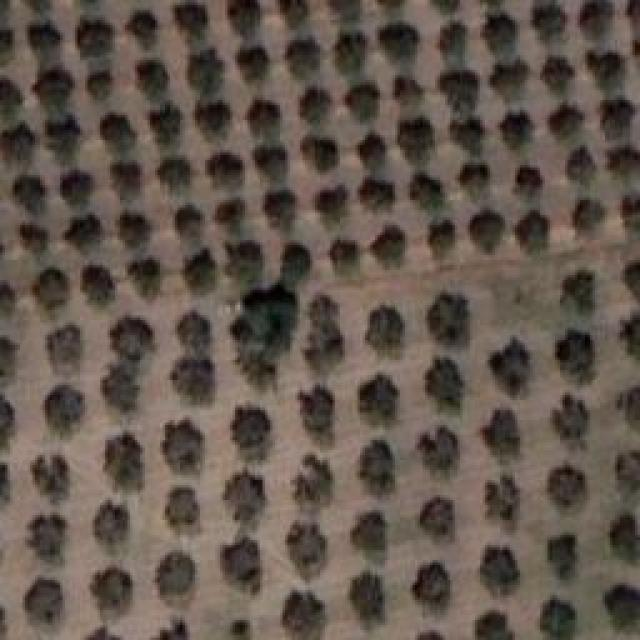Tree: (227, 287, 297, 382), (295, 300, 352, 368), (360, 300, 410, 358), (425, 290, 473, 347), (275, 243, 325, 297), (357, 437, 404, 494), (480, 478, 531, 530), (38, 385, 88, 435), (218, 473, 267, 524), (155, 550, 202, 603), (293, 465, 343, 514), (100, 438, 149, 488), (110, 318, 161, 366), (82, 563, 128, 616), (408, 555, 458, 603), (220, 540, 270, 588), (277, 587, 322, 640), (232, 404, 276, 458), (25, 580, 69, 634), (475, 548, 522, 598), (288, 522, 328, 580), (515, 208, 561, 258), (490, 340, 534, 392), (542, 465, 588, 514), (358, 373, 401, 425), (487, 55, 534, 102), (178, 250, 228, 294), (348, 515, 395, 560), (423, 360, 464, 411), (477, 10, 523, 55), (470, 210, 516, 255), (42, 320, 87, 366), (298, 383, 337, 436), (100, 373, 143, 421), (480, 407, 525, 452), (368, 223, 410, 271), (167, 485, 211, 529), (567, 198, 613, 240), (172, 358, 218, 400), (0, 338, 30, 402), (558, 332, 598, 379), (438, 72, 480, 116), (550, 398, 592, 442), (563, 270, 604, 315), (163, 424, 198, 476), (303, 130, 345, 173), (348, 575, 382, 628), (420, 498, 457, 546), (193, 100, 234, 143), (575, 0, 618, 41), (530, 0, 570, 44), (605, 510, 640, 560), (543, 533, 584, 575), (33, 268, 73, 311), (540, 597, 580, 640), (90, 503, 130, 546), (25, 507, 63, 552), (602, 585, 639, 631), (43, 115, 83, 157), (73, 18, 116, 57), (498, 110, 541, 149), (420, 423, 454, 472), (585, 48, 626, 88), (510, 165, 552, 204), (455, 163, 497, 202), (538, 55, 581, 93), (33, 453, 71, 496), (330, 30, 370, 70), (600, 103, 640, 143), (328, 235, 364, 279), (425, 217, 461, 261), (230, 43, 272, 80), (453, 118, 496, 154), (78, 260, 113, 304), (378, 25, 418, 63), (173, 310, 210, 351), (183, 50, 225, 86), (115, 210, 154, 248), (205, 153, 243, 191), (223, 245, 261, 283), (348, 83, 385, 121), (65, 213, 103, 250), (134, 60, 174, 95), (250, 145, 289, 180), (400, 123, 439, 158), (33, 68, 72, 103), (97, 110, 131, 150), (123, 258, 163, 292), (0, 122, 33, 163), (260, 190, 297, 226), (23, 23, 61, 58), (437, 20, 471, 59), (390, 72, 429, 106), (358, 180, 397, 214), (15, 218, 49, 257), (58, 170, 96, 204), (170, 3, 211, 34), (250, 100, 286, 135), (313, 185, 349, 220), (545, 100, 579, 137), (155, 157, 193, 190), (616, 188, 640, 240), (285, 40, 320, 75), (608, 145, 640, 183), (110, 157, 146, 190), (127, 10, 161, 44), (153, 615, 198, 640), (147, 105, 181, 138), (227, 0, 262, 32), (300, 85, 331, 121), (565, 148, 596, 184), (405, 176, 442, 206), (82, 67, 115, 100), (10, 175, 44, 207), (0, 397, 19, 454), (0, 75, 23, 122), (615, 452, 639, 497), (356, 135, 384, 170), (79, 620, 125, 640), (475, 610, 505, 640), (613, 385, 638, 420), (173, 208, 203, 237), (215, 198, 244, 226), (617, 317, 640, 352), (223, 615, 253, 640), (277, 0, 311, 22), (0, 282, 19, 320), (0, 24, 15, 67), (410, 626, 449, 640), (23, 0, 58, 15), (630, 260, 640, 303)
